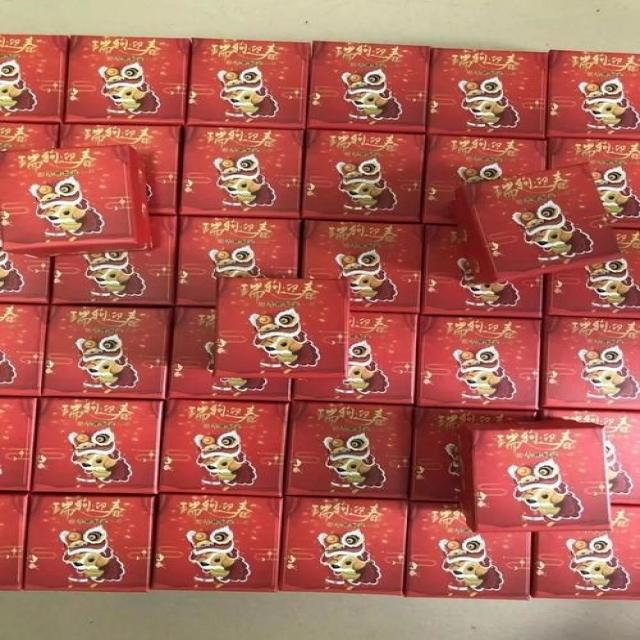box: (448, 162, 622, 283), (458, 418, 614, 533), (0, 143, 152, 258), (212, 276, 351, 380), (278, 495, 411, 596), (23, 493, 155, 593), (31, 396, 164, 495), (150, 494, 283, 592), (283, 401, 415, 499), (157, 399, 289, 497), (404, 501, 532, 600), (41, 304, 173, 398), (291, 310, 420, 405), (416, 314, 543, 410), (412, 406, 539, 502), (164, 307, 291, 403), (302, 128, 428, 223), (50, 214, 178, 306), (173, 215, 301, 307), (306, 40, 431, 134), (180, 125, 306, 218), (187, 37, 311, 130), (421, 134, 548, 224), (420, 224, 544, 316), (300, 221, 425, 312), (64, 36, 191, 124), (428, 47, 550, 138), (59, 124, 182, 214), (534, 505, 640, 599), (540, 408, 640, 505), (540, 315, 640, 411), (543, 229, 640, 319), (545, 49, 640, 140), (548, 138, 640, 229), (0, 35, 70, 123), (0, 302, 49, 396), (0, 227, 52, 304), (0, 396, 38, 493), (0, 493, 31, 592), (0, 122, 61, 151)
